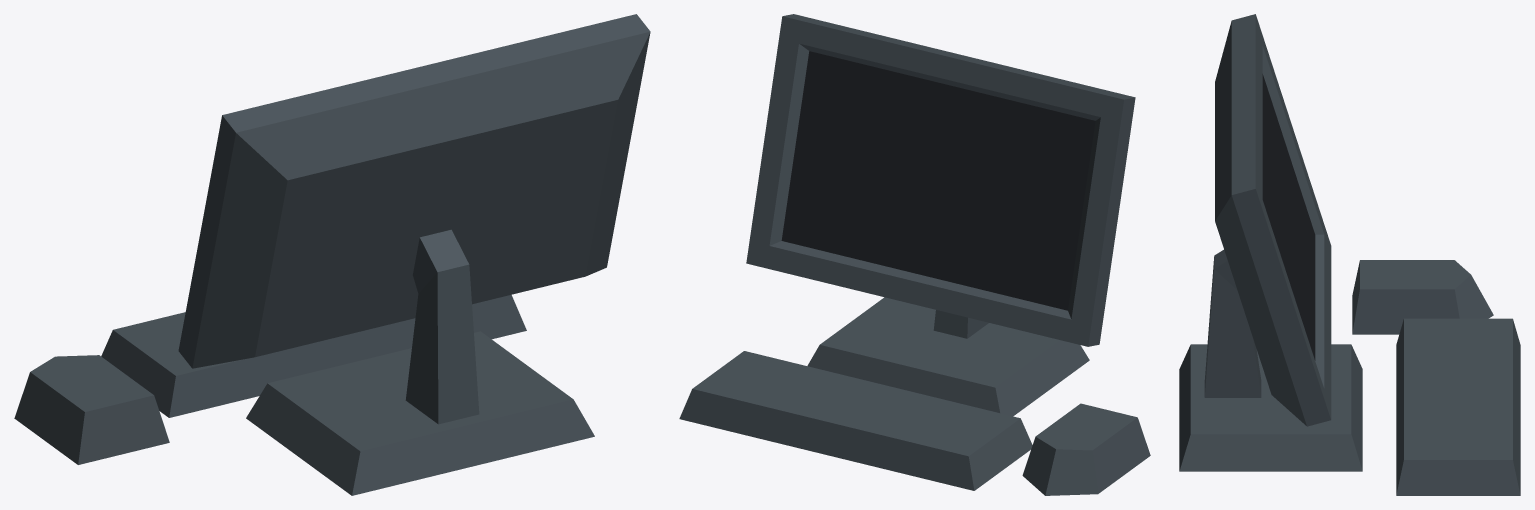
File: PCset_geo.fbx
The picture shows the model from 3 angles, left to right: view 1: azimuth 30°, elevation 25°; view 2: azimuth 150°, elevation 25°; view 3: azimuth 270°, elevation 25°; orthographic projection. The views are drawn at different scales.
Parts seen in each view (by area): view 1: PCset_geo; view 2: PCset_geo; view 3: PCset_geo.
Part boxes in pixels (x1,y1,x2,y2): PCset_geo: [14, 14, 650, 495]; PCset_geo: [679, 14, 1150, 495]; PCset_geo: [1179, 14, 1520, 495].
Bounding box in the file's own units: 0.7412 × 0.5043 × 0.5205.
